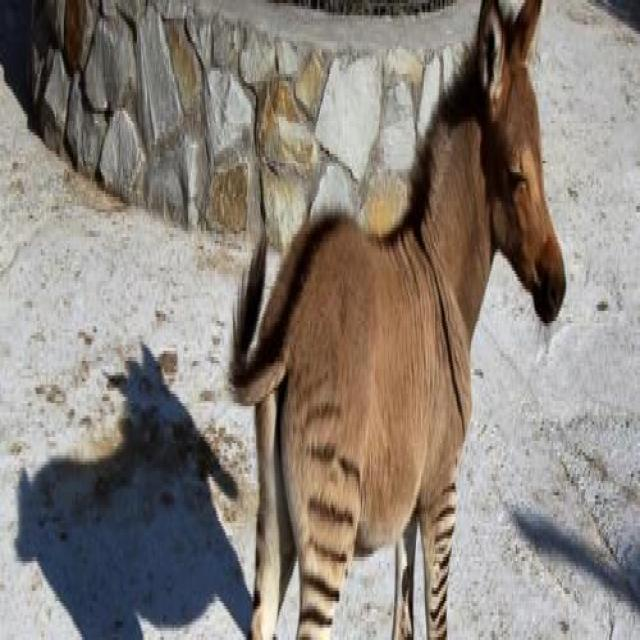Donkey: (238, 0, 566, 640)
